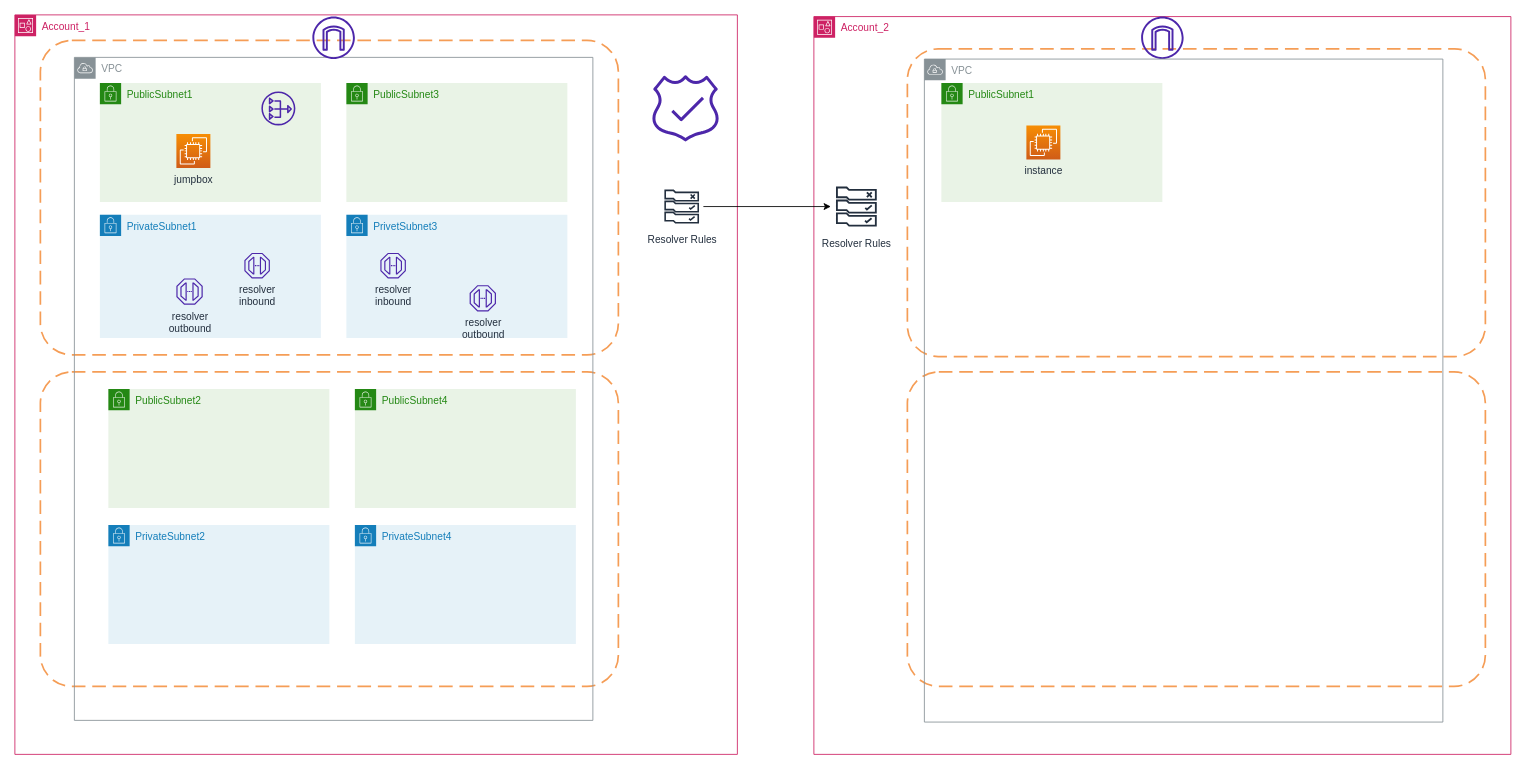
This 1526x769 diagram has some shape labels left out. Each missing label, with the centre of its shape:
Nat gateway: the point at 278,108
R53 resolver Private zone: the point at 685,108
